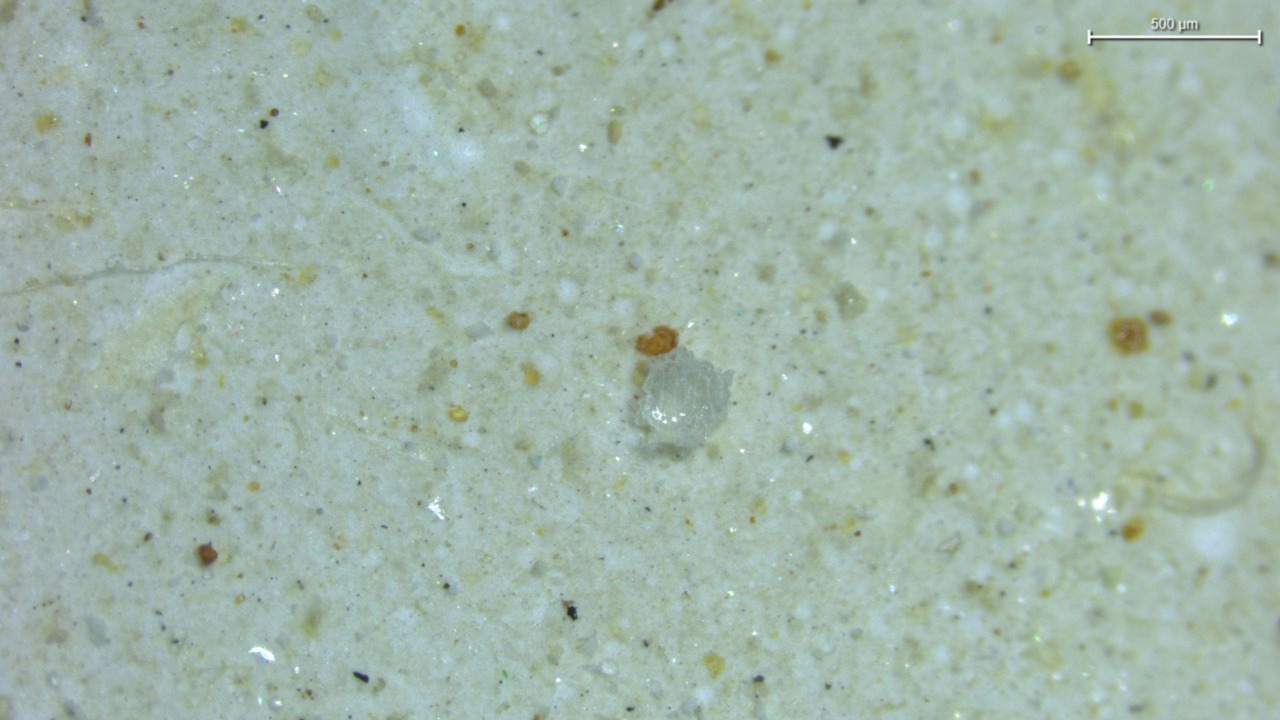microplastic_fragment: (637, 346, 731, 454)
